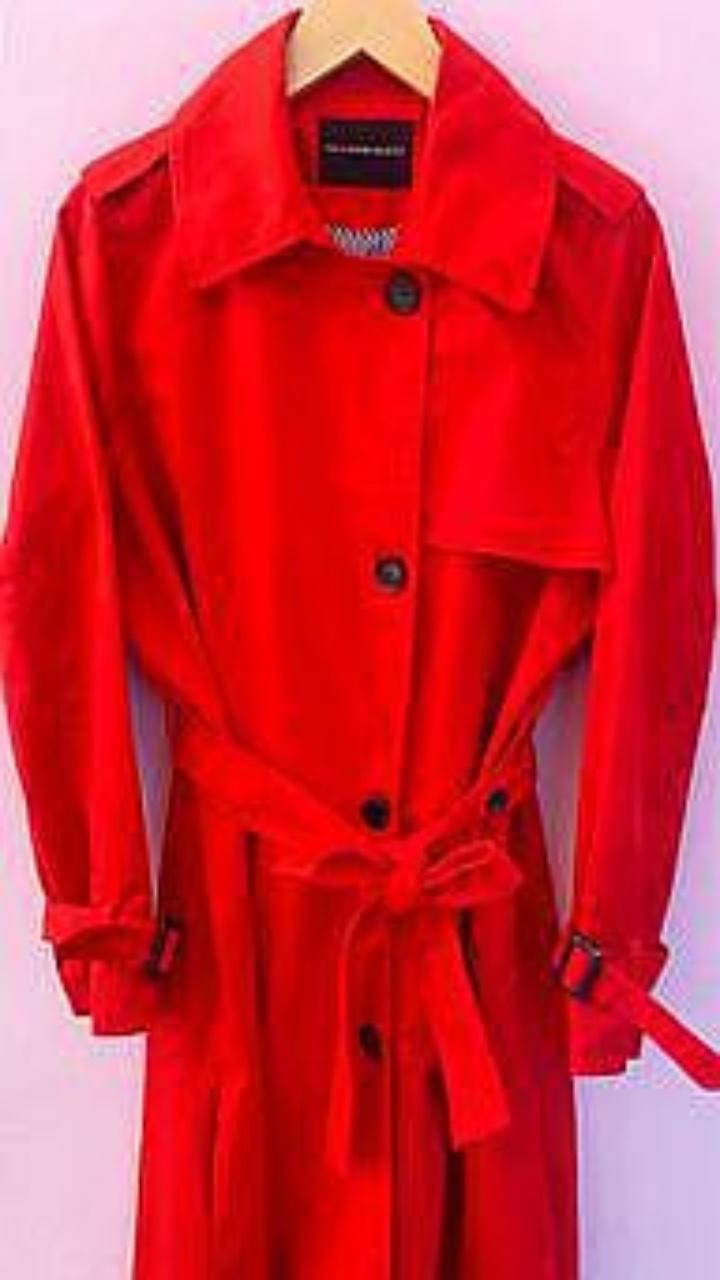Coat: (0, 8, 719, 1279)
